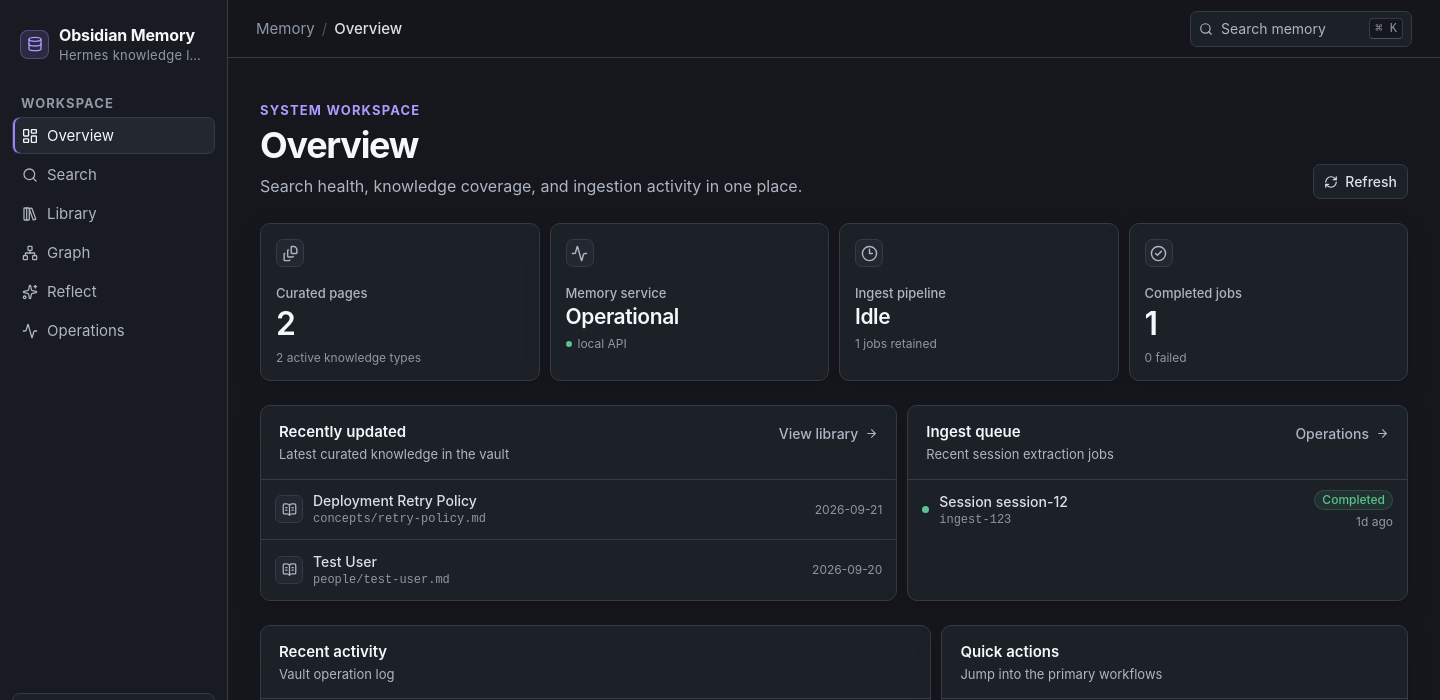
Memory workspace shell › renders CommonMark and GFM content in page viewer
Step 1. Click the button "Library" → coordinates (114, 214), box [12,195,215,232]
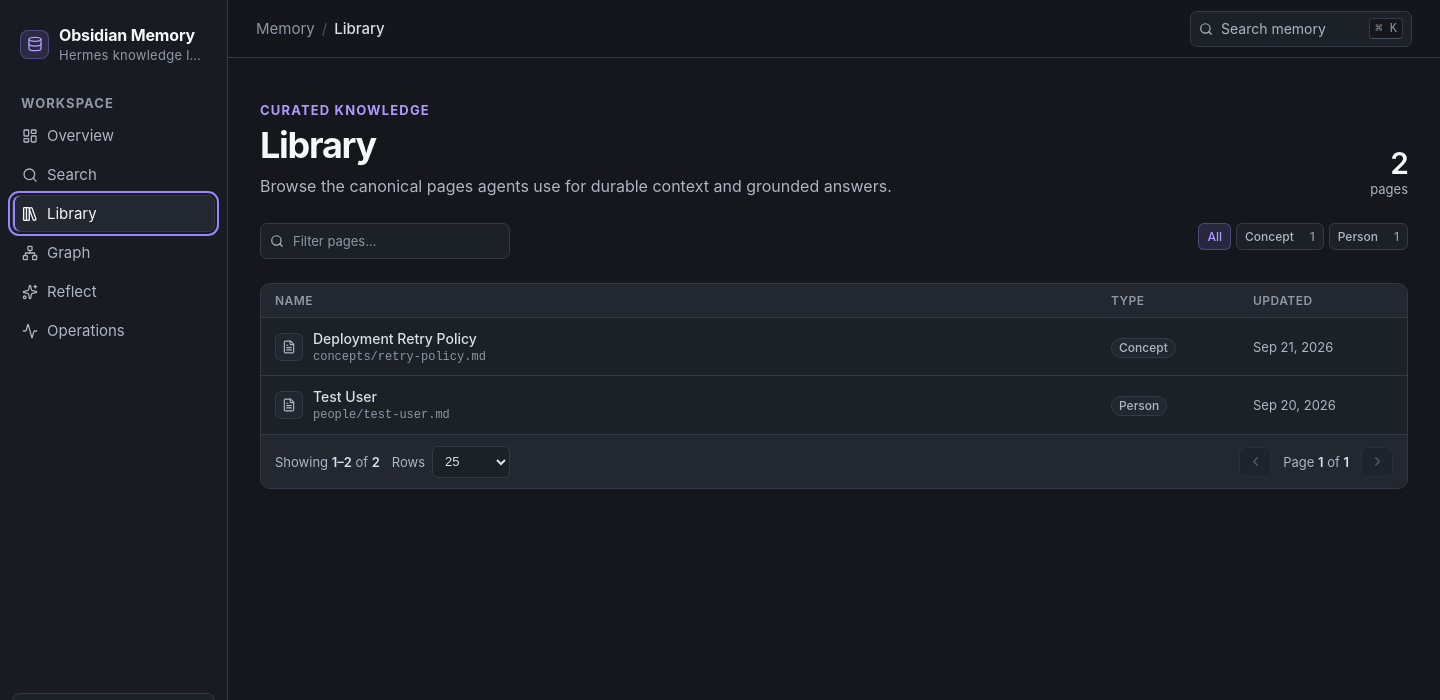
Step 2. Click the button "Deployment Retry Policy" → coordinates (395, 338), box [261,318,1407,376]
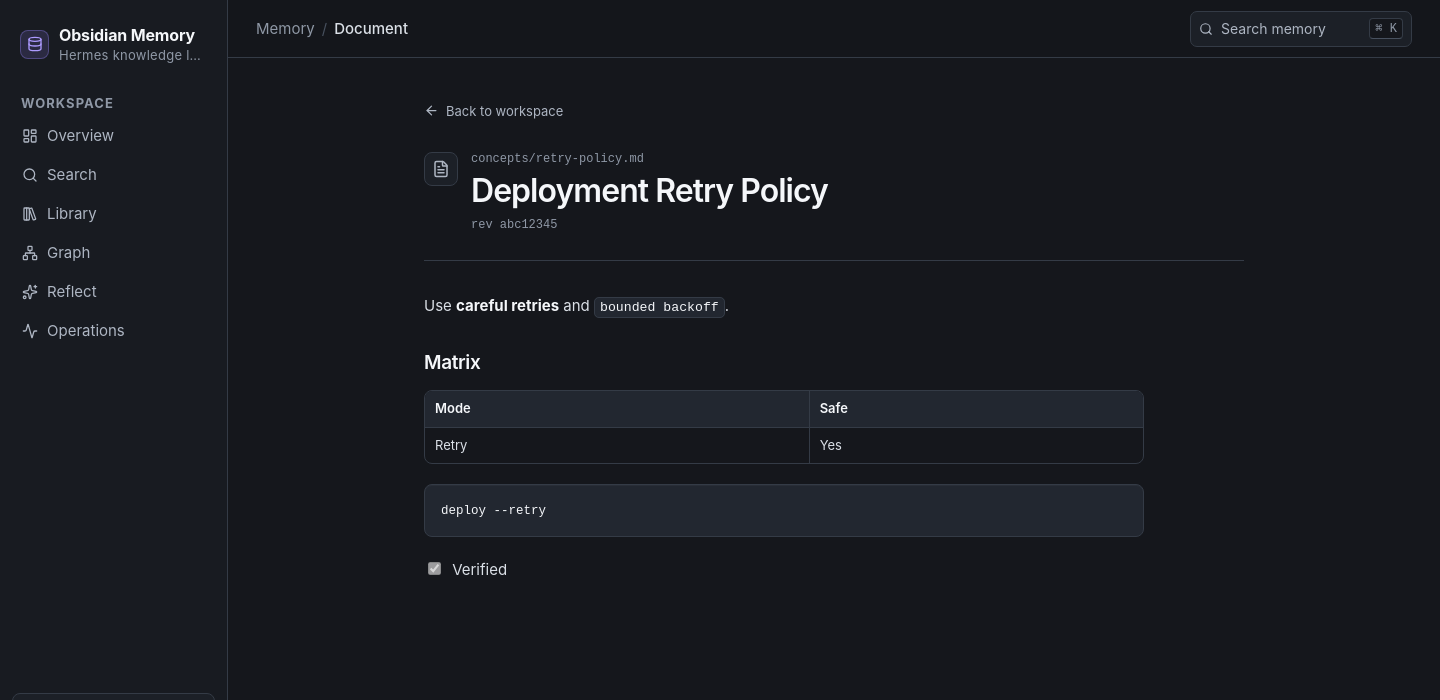
Result: the table is shown at [425,391,1143,463]
Result: the checkbox is checked at [428,562,441,575]
